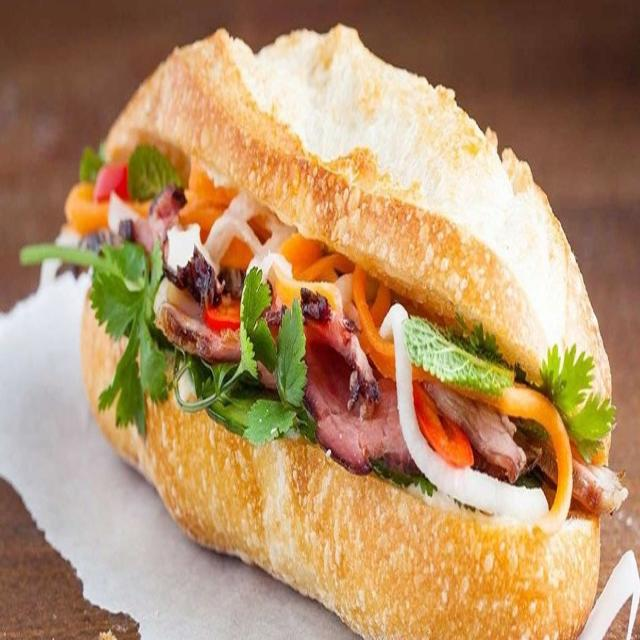banh mi: (21, 26, 626, 639)
